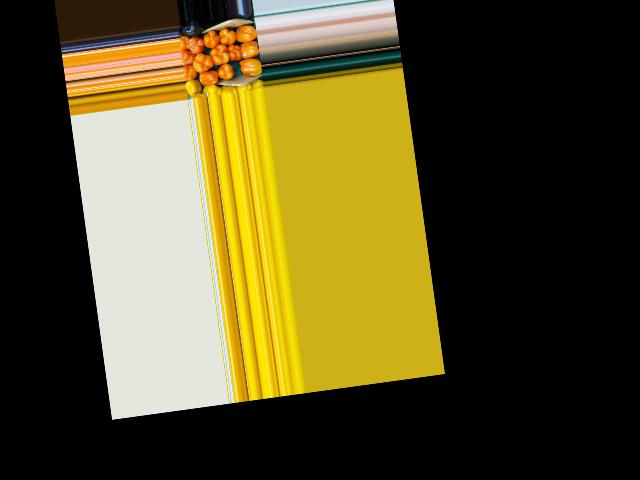bell_pepper: (201, 83, 224, 96)
